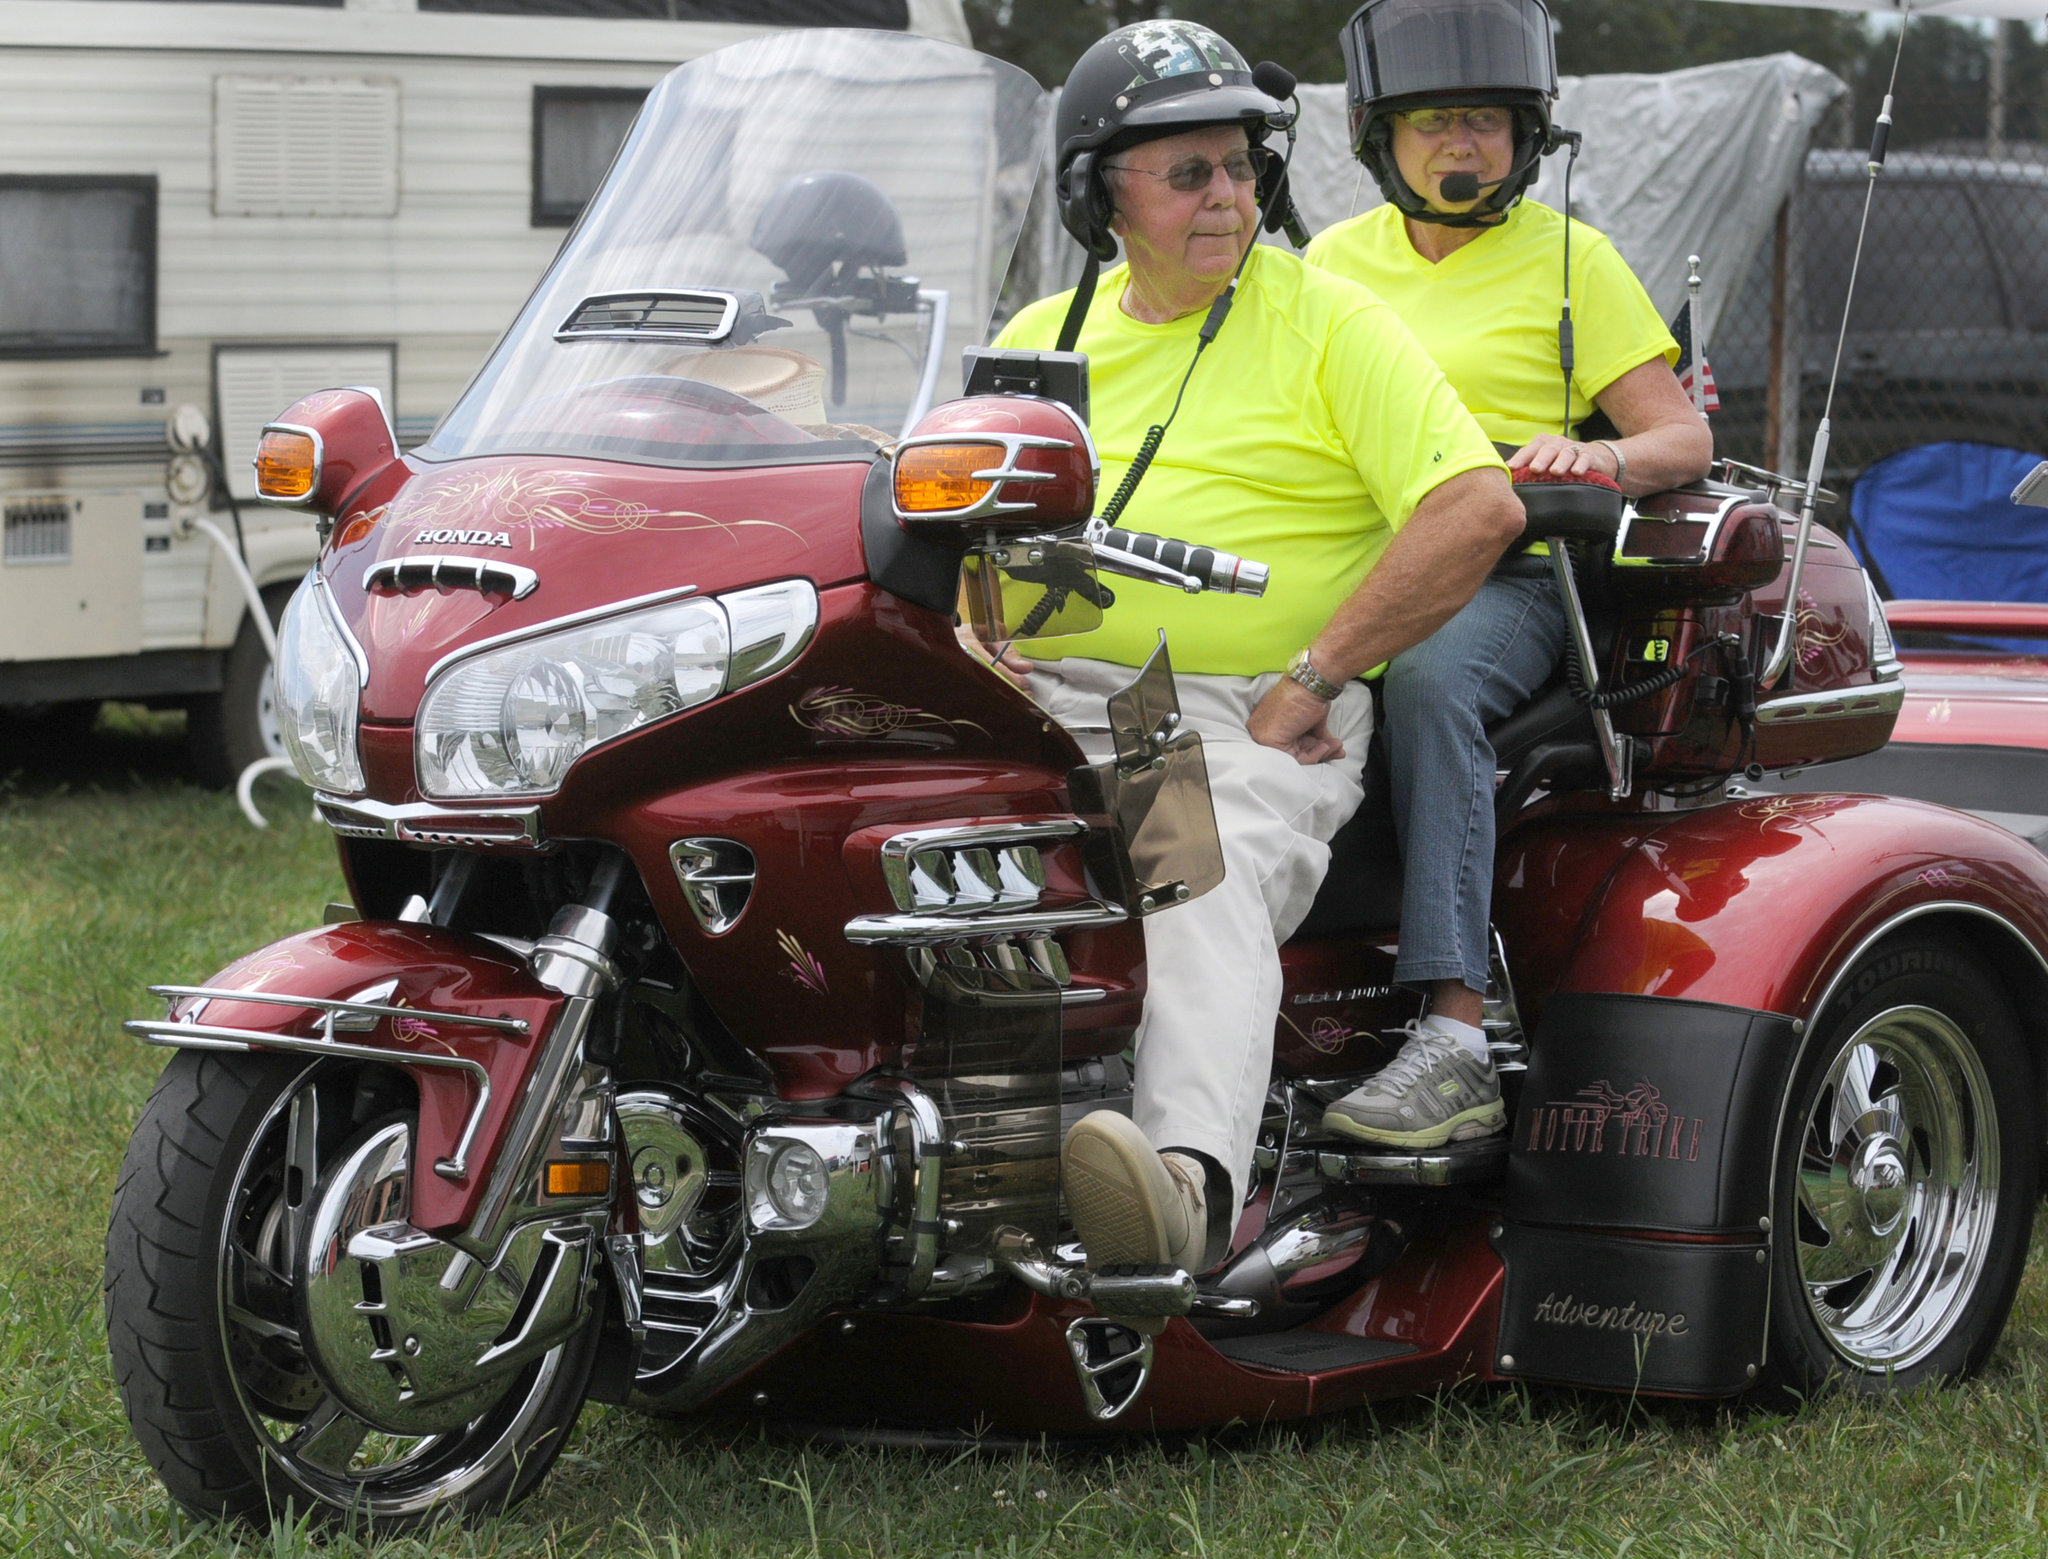helmet: (1004, 21, 1328, 306)
